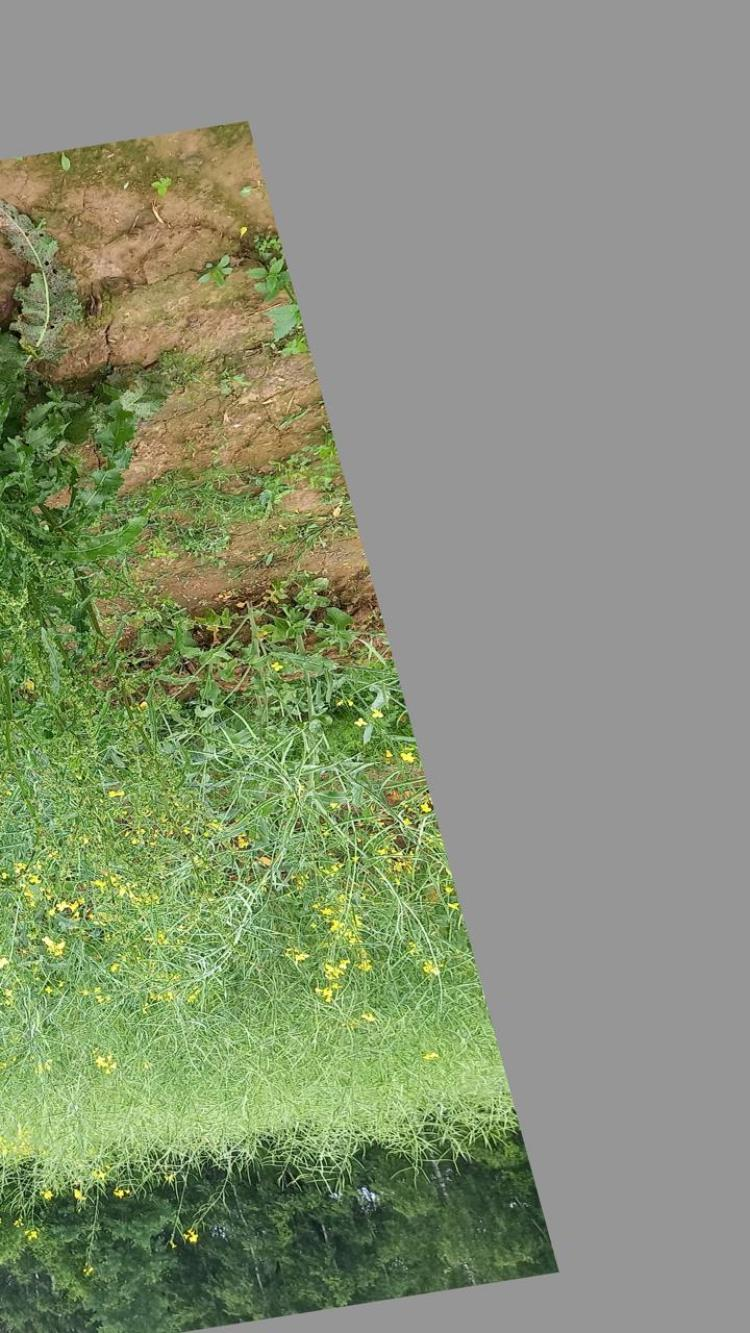zhavel: (0, 196, 177, 866)
